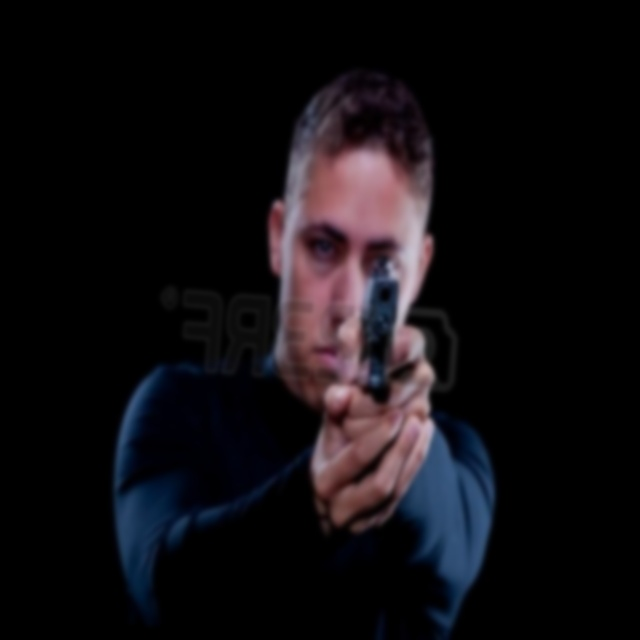gun: (336, 253, 413, 450)
